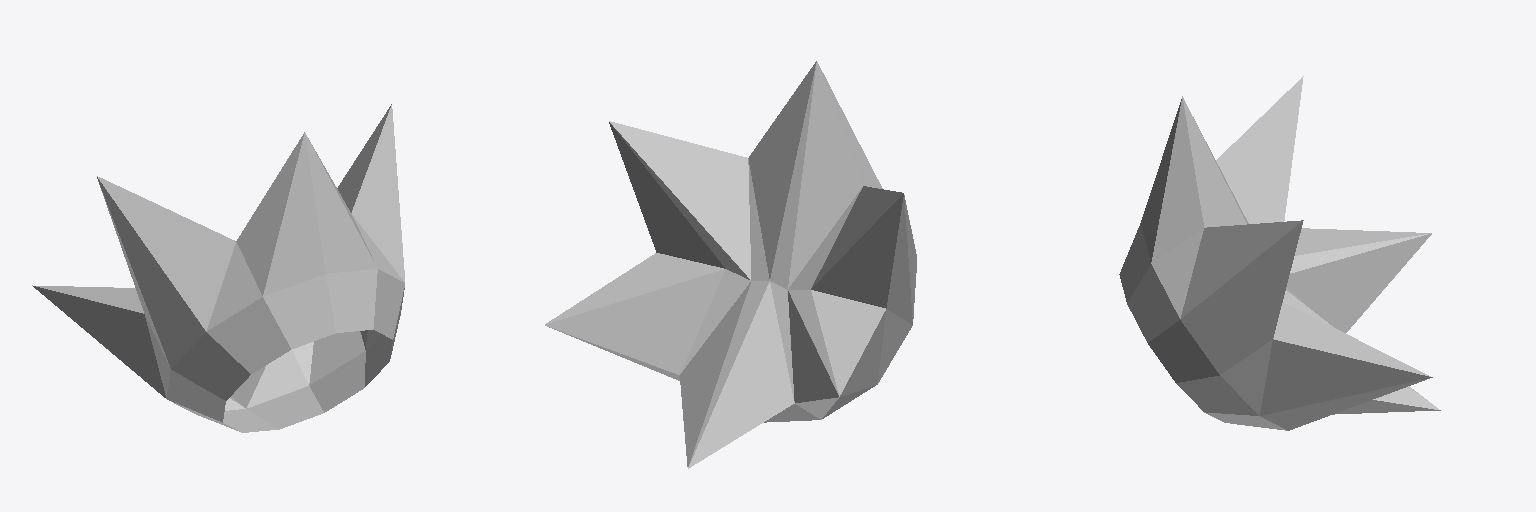
Rendered from CYNDAQUIL_fire.obj.
The picture shows the model from 3 angles: view 1: azimuth 30°, elevation 25°; view 2: azimuth 150°, elevation 25°; view 3: azimuth 270°, elevation 25°; orthographic projection.
Visible parts, largest first — view 1: fire; view 2: fire; view 3: fire.
Boxes of the visible parts, x1,y1,x2,y2 form: fire: [32, 104, 404, 432]; fire: [545, 61, 916, 468]; fire: [1119, 76, 1440, 430].
Bounding box in the file's own units: 2.27 × 2.34 × 2.13.